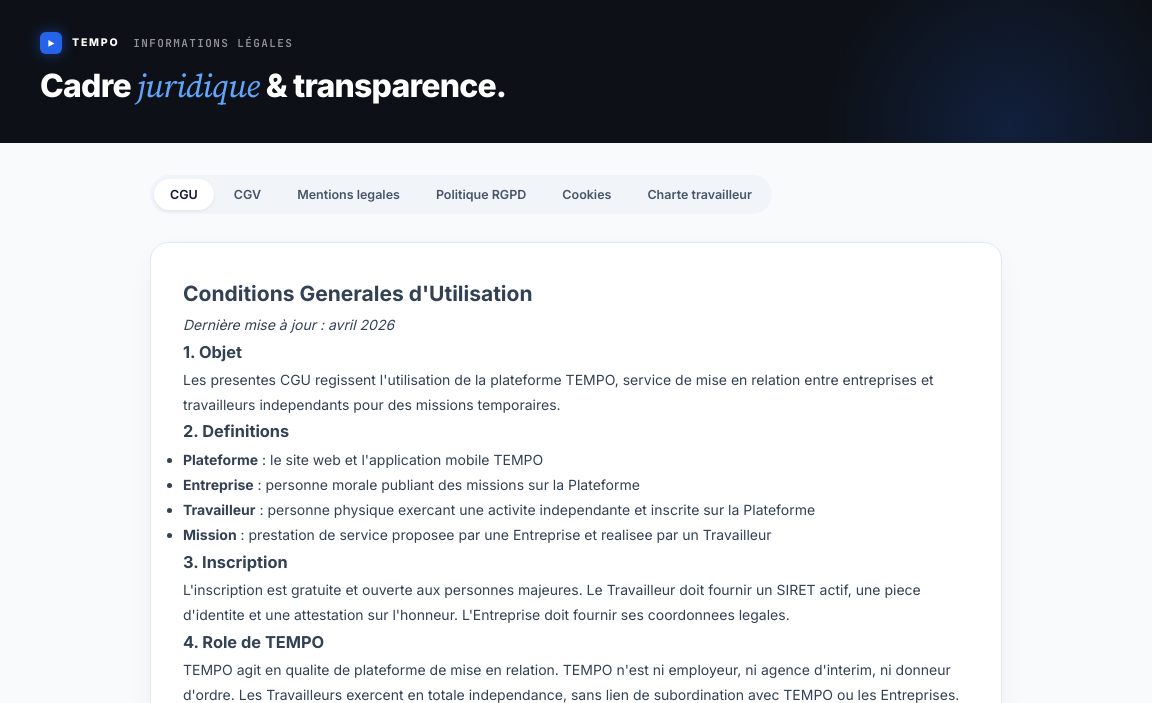
Scenario: Legal page › switches to Charte travailleur tab on click
Click the button "Charte travailleur".
click(700, 194)  # box [631,179,768,210]
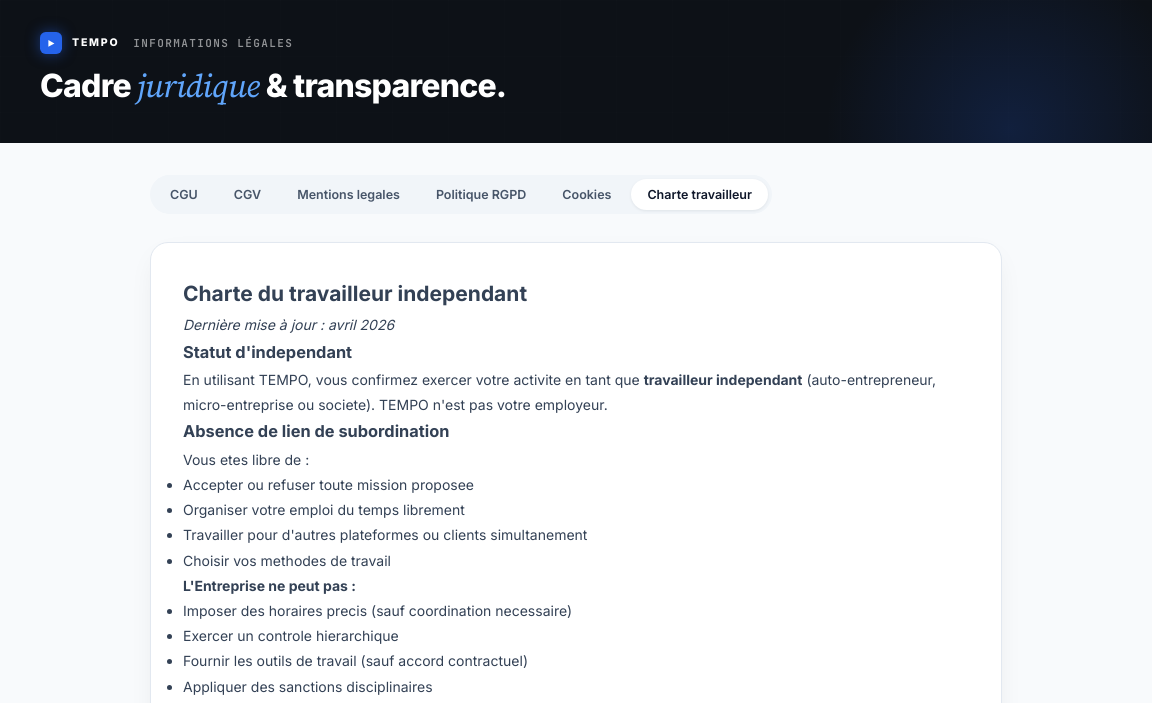
Now the heading "Charte du travailleur independant" is shown, box [183,281,527,306]
